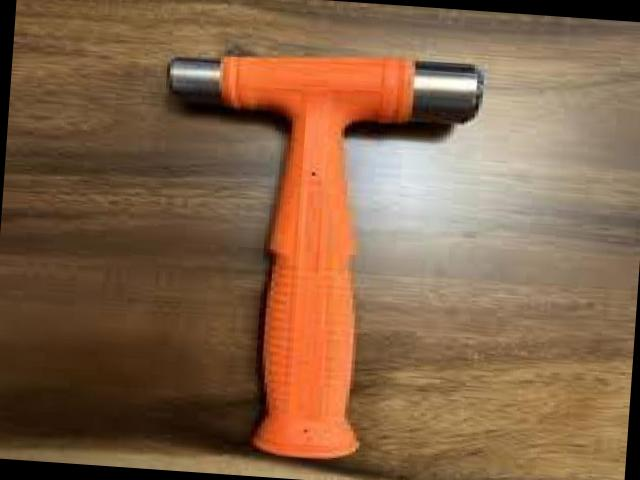hammer: (136, 43, 486, 468)
